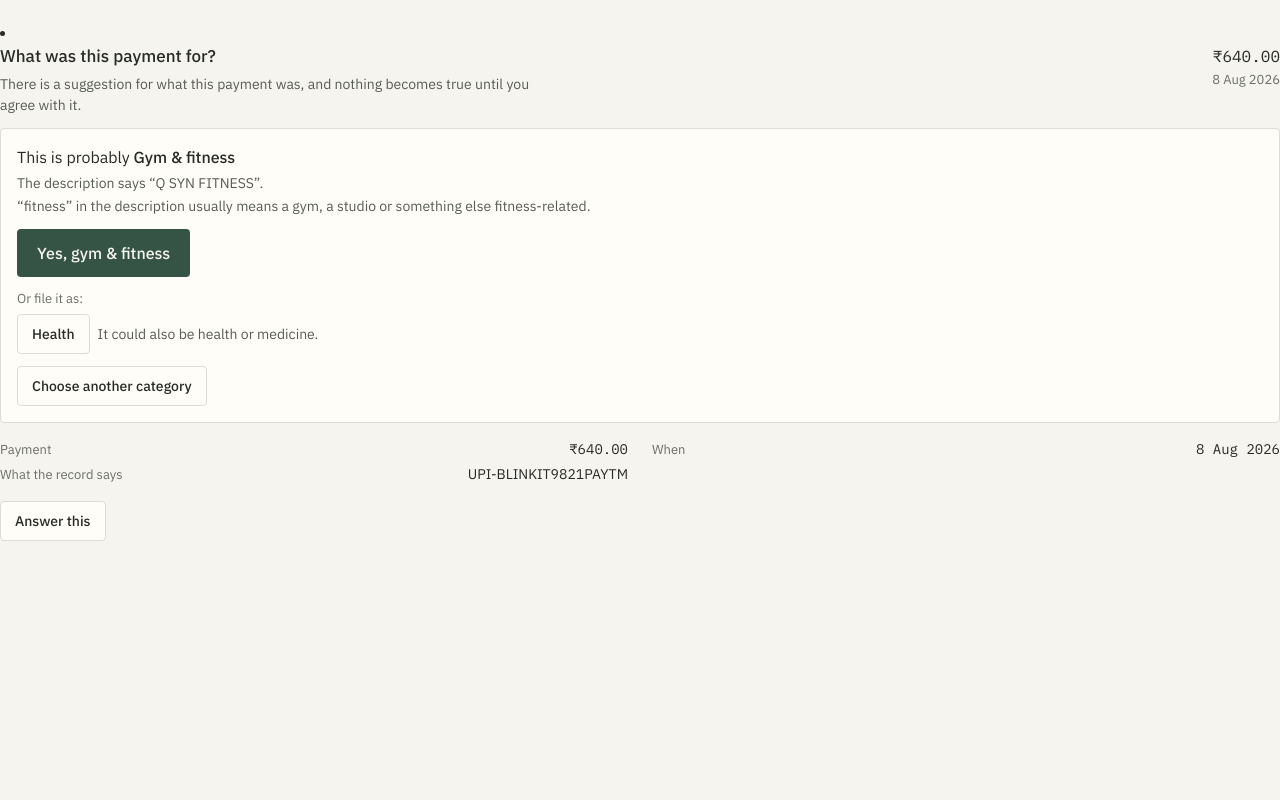
Test case: what a payment looks like it was for › states what confirming does, and what it does not, before it happens
Step 1. Click the button "Yes, gym & fitness" → (104, 252), box [17, 228, 190, 276]
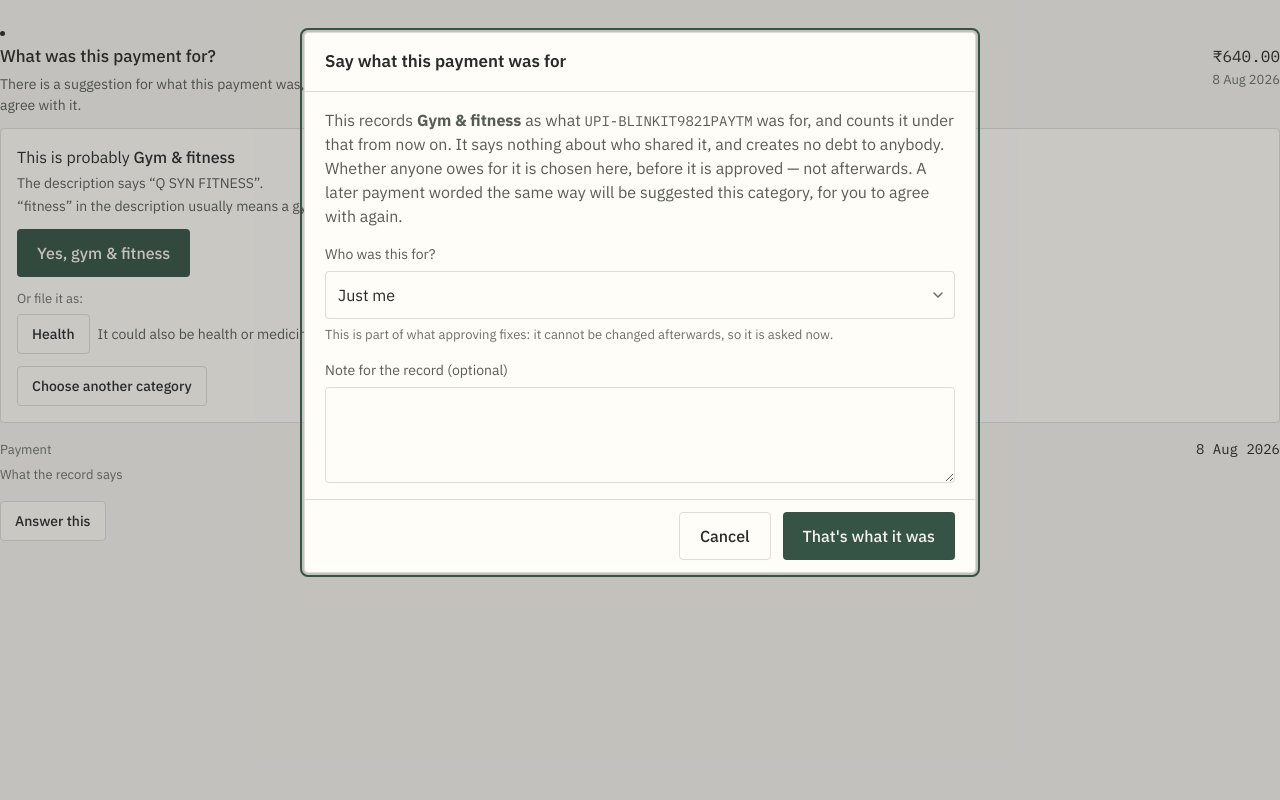
Expected: the text "counts it under that from now on" is shown, [325, 110, 954, 154]
Expected: the text "creates no debt to anybody" is shown, [325, 134, 944, 178]
Expected: the text "will be suggested this category" is shown, [325, 158, 929, 226]
